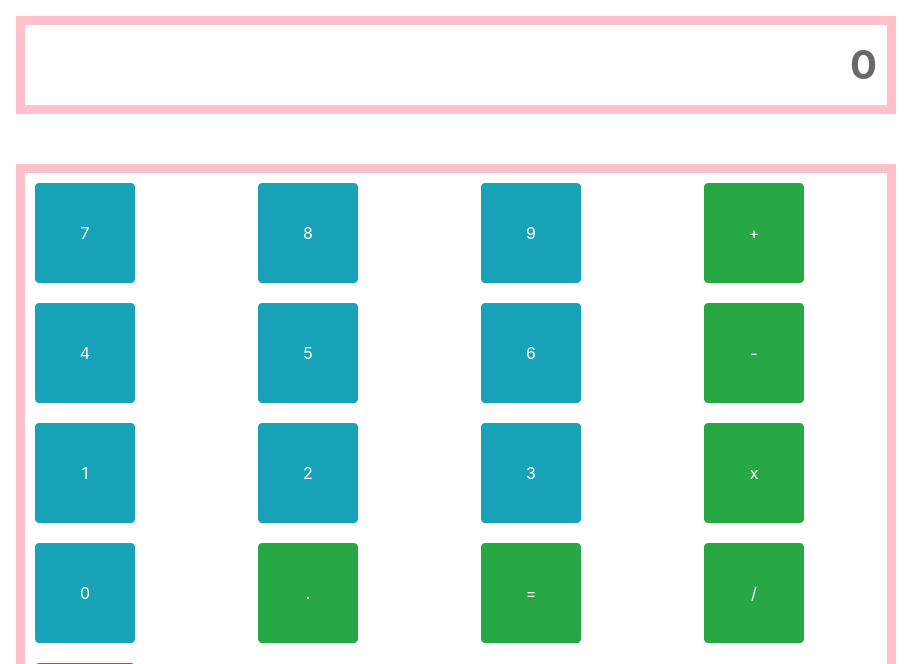
Scenario: calculates correctly
The image size is (913, 664).
Expected: the text "0" is shown, [16, 16, 896, 114]
Click the button "7". click: (85, 233)
box: [35, 183, 135, 283]
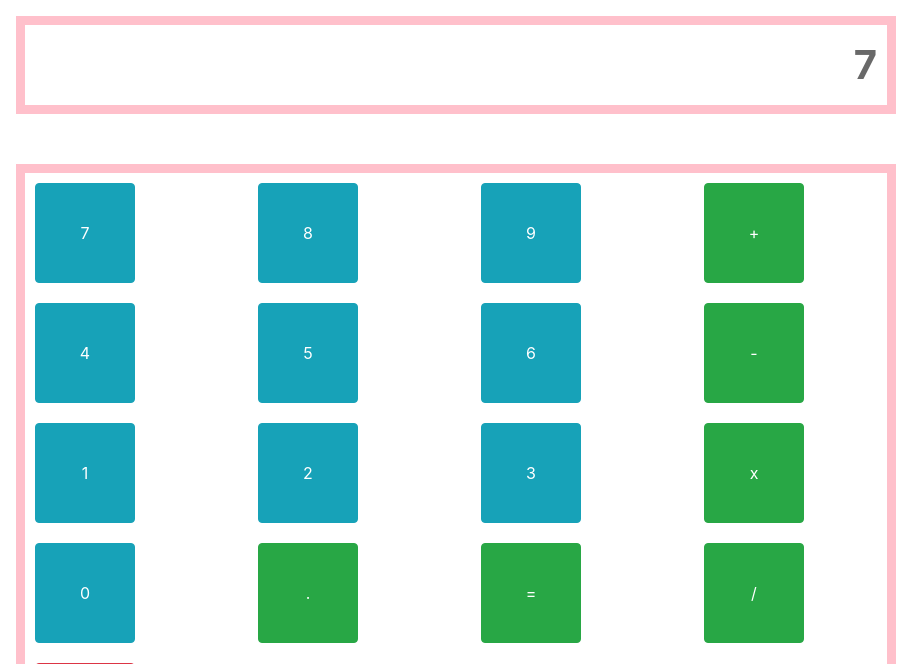
Expected: the text "7" is shown, [16, 16, 896, 114]
Click the button "+". click: (754, 233)
box: [704, 183, 804, 283]
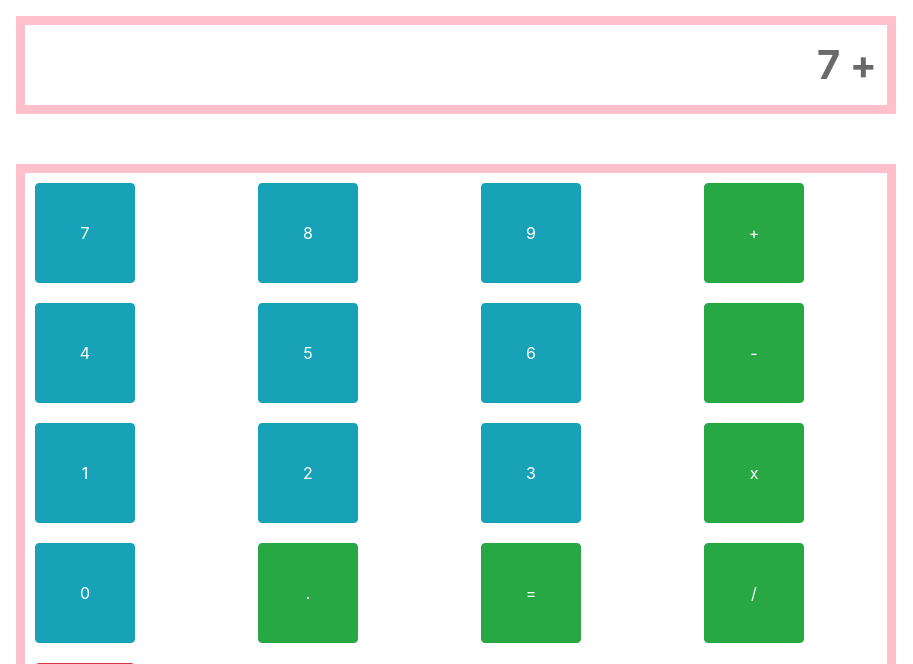
Expected: the text "7 +" is shown, [16, 16, 896, 114]
